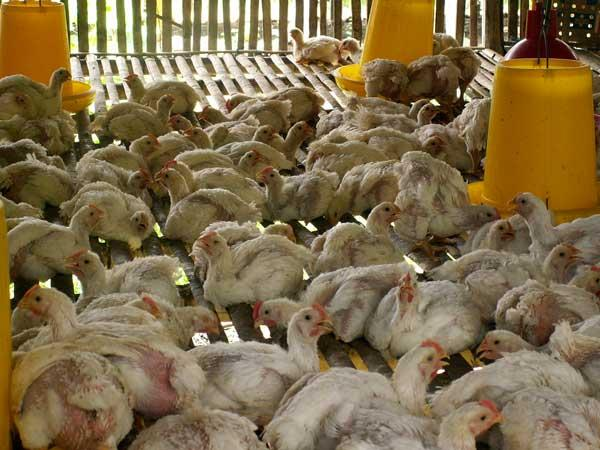chicken: (17, 286, 202, 398), (270, 344, 448, 449), (180, 308, 335, 410), (445, 242, 582, 304), (401, 152, 497, 240), (367, 276, 480, 348), (195, 234, 308, 302), (2, 206, 104, 274), (153, 168, 255, 231), (313, 203, 404, 273), (508, 193, 600, 262), (70, 251, 180, 302), (68, 185, 152, 242), (260, 164, 338, 216), (2, 68, 73, 123), (93, 93, 176, 138), (122, 73, 198, 116), (408, 55, 464, 99), (288, 25, 342, 65), (362, 60, 408, 99)
